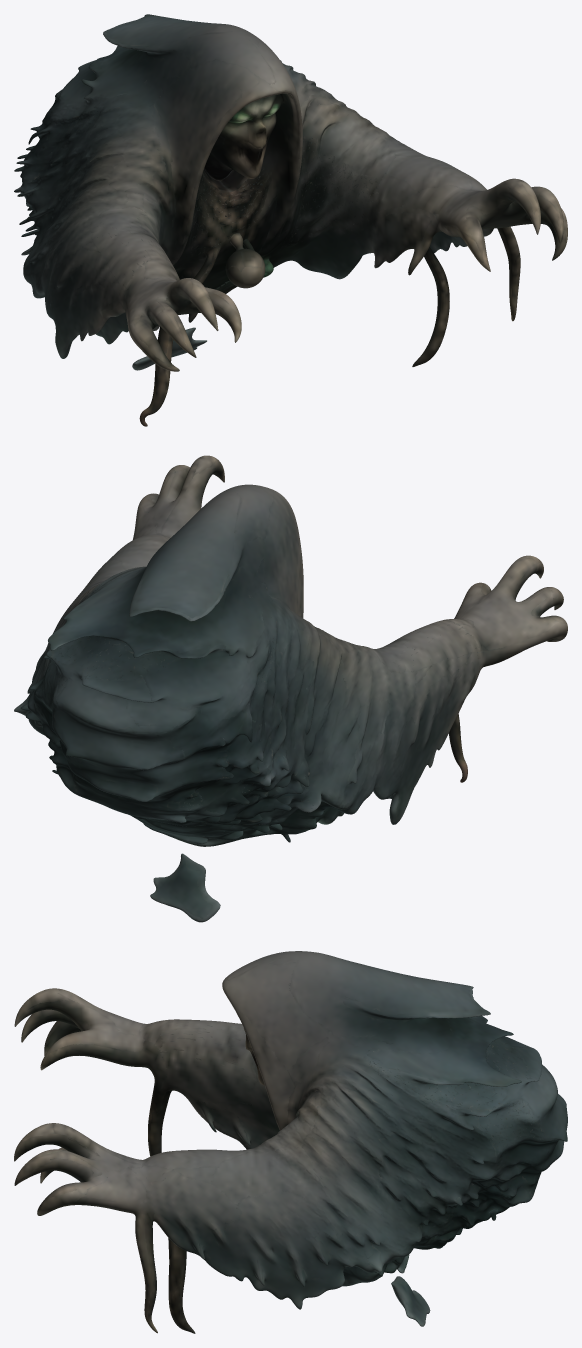
Rendered from specter.glb.
3 renders of one model, top to bottom at view 1: azimuth 30°, elevation 25°; view 2: azimuth 150°, elevation 25°; view 3: azimuth 270°, elevation 25°, orthographic.
Parts seen in each view (by area): view 1: material; view 2: material; view 3: material.
Boxes of the visible parts, x1=… form: material: x1=14, y1=14, x2=567, y2=426; material: x1=14, y1=455, x2=567, y2=922; material: x1=14, y1=951, x2=567, y2=1333.
Size of the model in its own units: 0.8266 by 0.7016 by 0.9479.
Materials: 1 (1 with a texture image).
